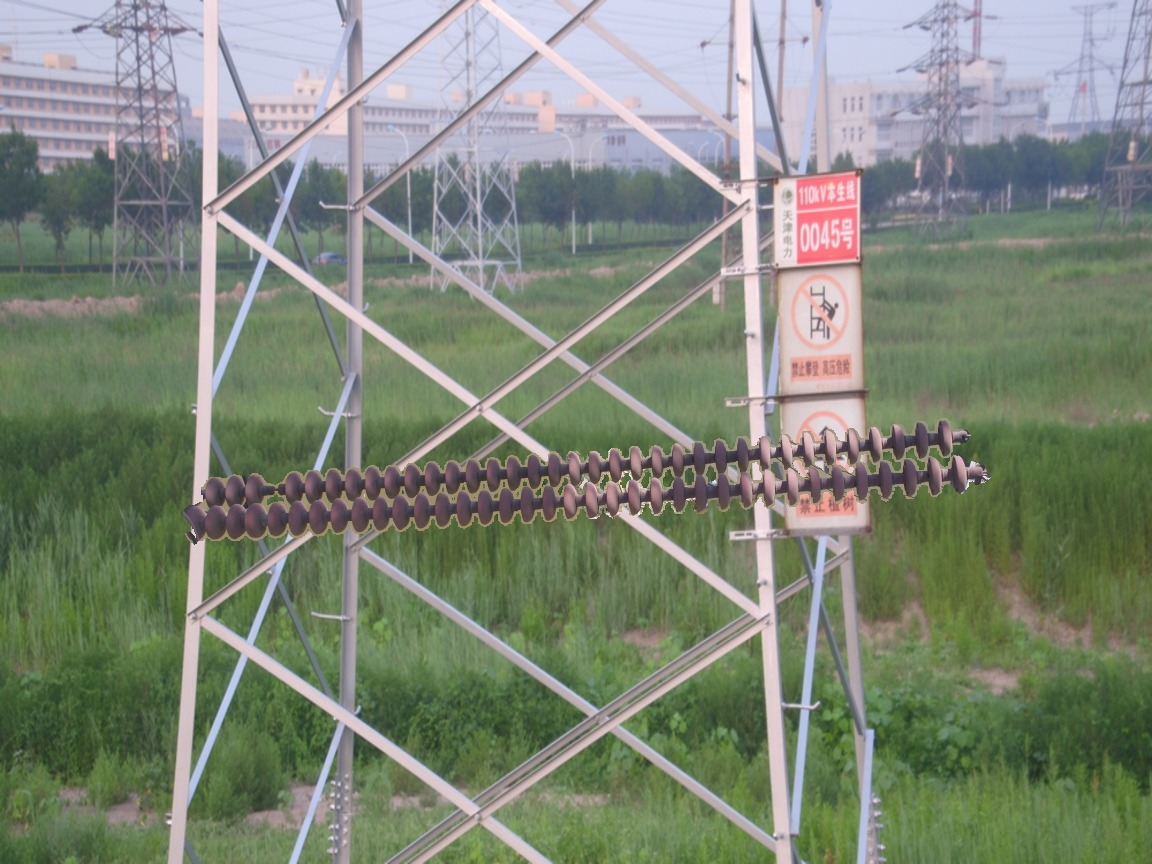defect: (241, 472, 305, 506)
